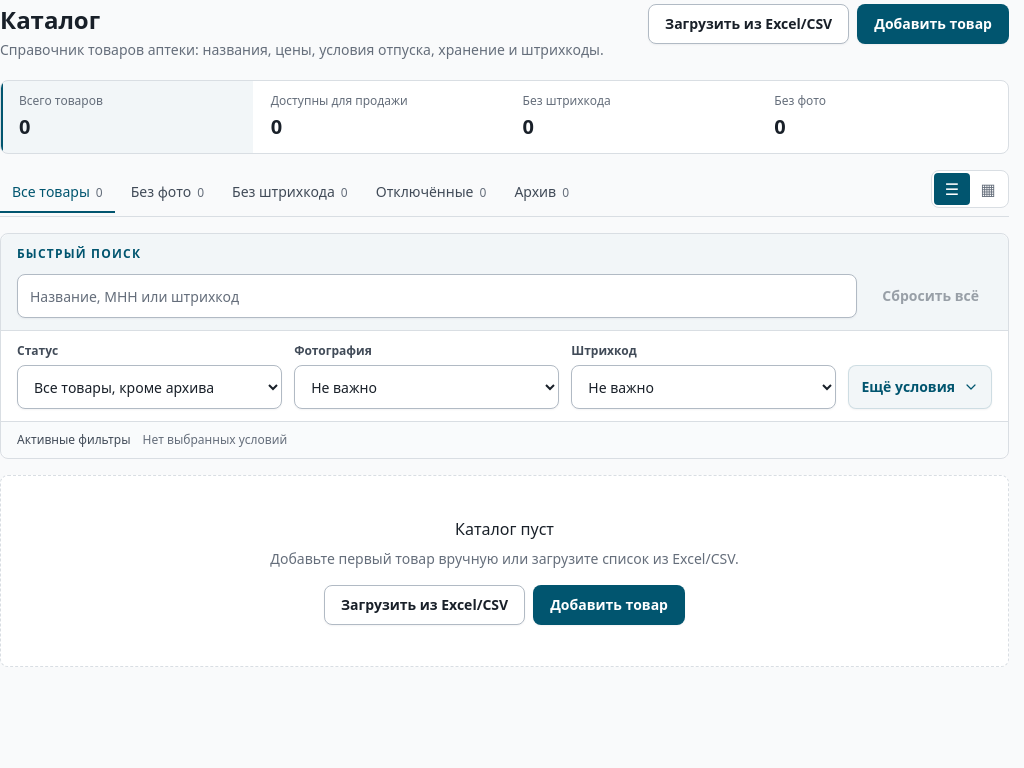
it: CatalogPage › rejects empty submission of the new item form
Expected: the text "Каталог пуст" is shown, [455,517,554,541]
Click the 1st button "Добавить товар": (933, 24) [857,4,1009,44]
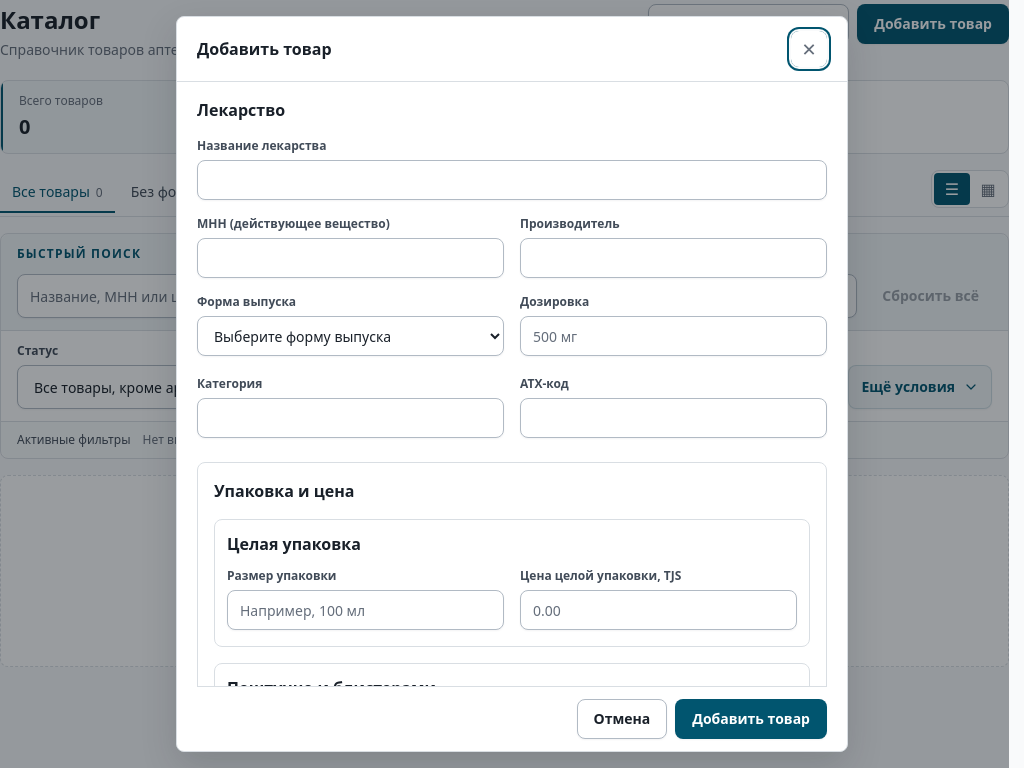
Click the button "Добавить товар": (751, 719) [675,699,827,739]
(page scrolled)
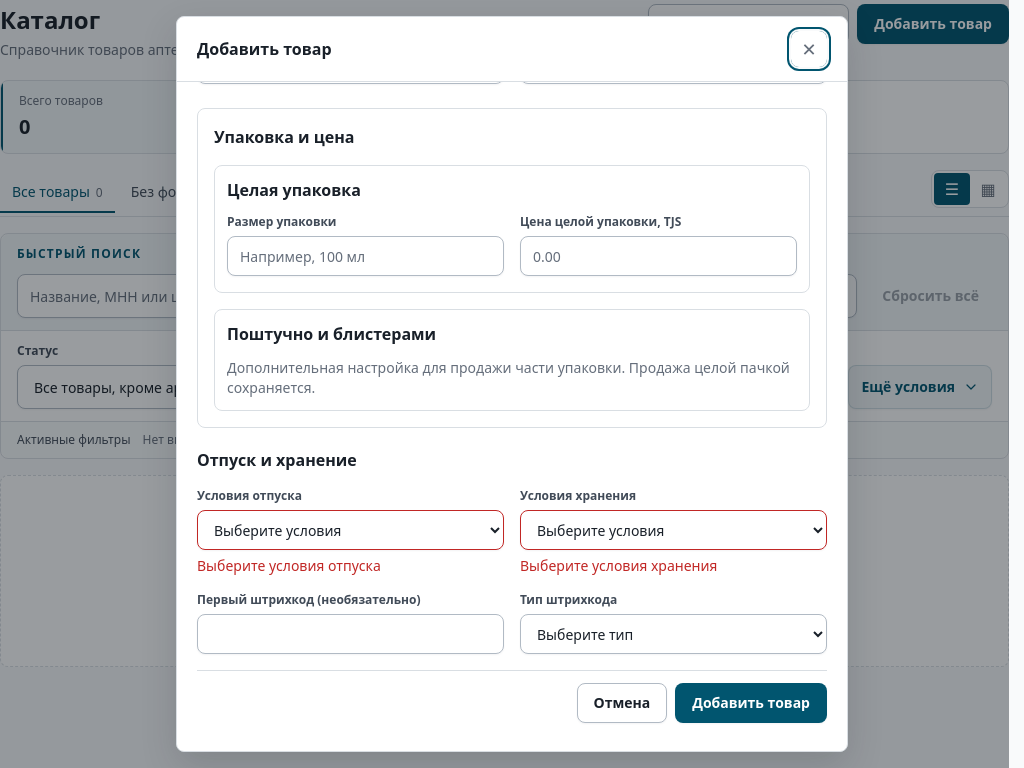
Result: the text "Выберите условия отпуска" is shown at [197,556,381,575]
Result: the text "Выберите условия хранения" is shown at [520,556,717,575]
